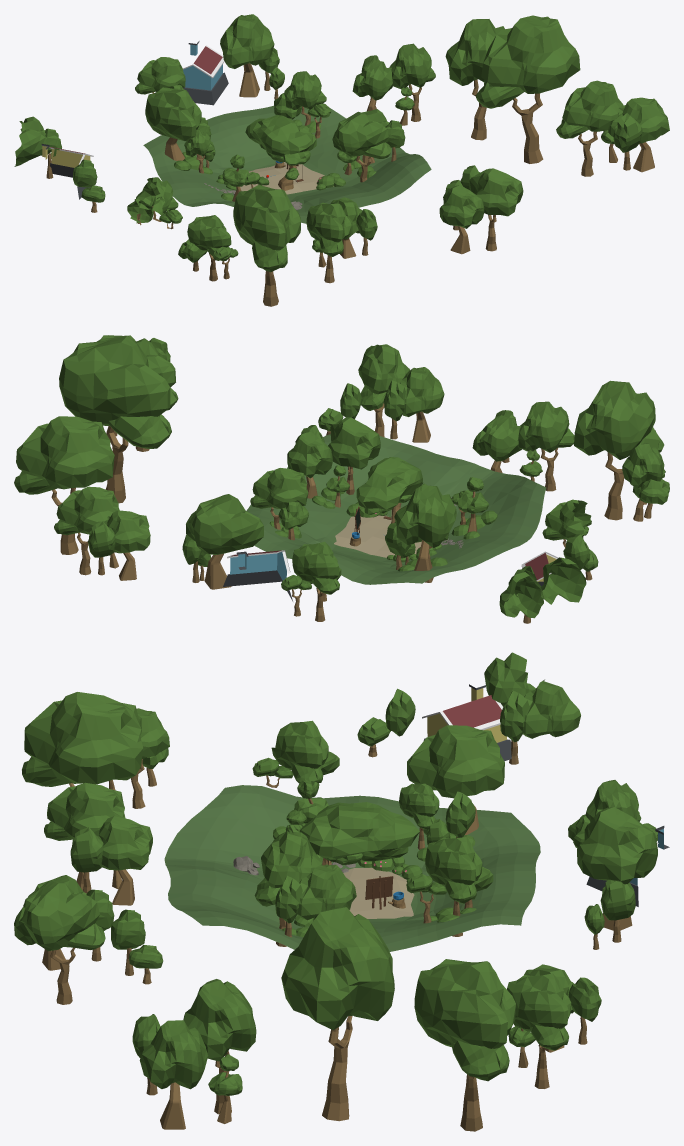
Rendered from Balloon_Minigame_Scene.fbx.
3 renders of one model, top to bottom at view 1: azimuth 30°, elevation 25°; view 2: azimuth 150°, elevation 25°; view 3: azimuth 270°, elevation 25°, orthographic. The views are drawn at different scales.
Parts seen in each view (by area): view 1: Terrain, Tree_Cluster_1, Tree_Cluster_5, Blue_House, Tree_Cluster_2, Tree_Cluster_3, Tree_Cluster_8, Tree_Cluster_0, Tree_Cluster_4, Tree_Cluster_10, Yellow_House, Main_Tree (+3 smaller); view 2: Tree_Cluster_1, Terrain, Blue_House, Tree_Cluster_5, Tree_Cluster_3, Tree_Cluster_0, Tree_Cluster_10, Tree_Cluster_4, Yellow_House, Tree_Cluster_8, Tree_Cluster_9, Main_Tree (+3 smaller); view 3: Terrain, Tree_Cluster_1, Tree_Cluster_5, Tree_Cluster_2, Yellow_House, Blue_House, Tree_Cluster_3, Tree_Cluster_8, Tree_Cluster_4, Tree_Cluster_0, Tree_Cluster_10, Main_Tree (+4 smaller).
Part boxes in pixels (box(x1,y1,x2,y2)): Terrain: box(143, 105, 431, 223); Tree_Cluster_1: box(445, 15, 580, 163); Tree_Cluster_5: box(178, 185, 300, 306); Blue_House: box(135, 14, 284, 105); Tree_Cluster_2: box(556, 80, 669, 176); Tree_Cluster_3: box(439, 165, 523, 254); Tree_Cluster_8: box(145, 87, 215, 174); Tree_Cluster_0: box(352, 43, 435, 125); Tree_Cluster_4: box(306, 197, 377, 283); Tree_Cluster_10: box(332, 109, 405, 182); Yellow_House: box(14, 116, 105, 212); Main_Tree: box(245, 114, 316, 190); Tree_Cluster_1: box(14, 335, 171, 554); Terrain: box(246, 434, 546, 584); Blue_House: box(182, 494, 341, 621); Tree_Cluster_5: box(574, 380, 669, 521); Tree_Cluster_3: box(318, 344, 444, 442); Tree_Cluster_0: box(54, 486, 150, 580); Tree_Cluster_10: box(287, 417, 380, 508); Tree_Cluster_4: box(472, 401, 574, 491); Yellow_House: box(499, 534, 598, 623); Tree_Cluster_8: box(385, 485, 456, 582); Tree_Cluster_9: box(250, 468, 308, 540); Main_Tree: box(356, 457, 427, 523); Terrain: box(164, 785, 540, 951); Tree_Cluster_1: box(281, 906, 515, 1131); Tree_Cluster_5: box(22, 692, 169, 808); Tree_Cluster_2: box(132, 979, 256, 1129); Yellow_House: box(357, 652, 580, 764); Blue_House: box(568, 780, 669, 949); Tree_Cluster_3: box(14, 875, 163, 1004); Tree_Cluster_8: box(399, 725, 504, 861); Tree_Cluster_4: box(44, 782, 152, 905); Tree_Cluster_0: box(507, 964, 601, 1088); Tree_Cluster_10: box(254, 831, 356, 946); Main_Tree: box(299, 802, 419, 865).
Size of the model in its own units: 61.13 by 16.46 by 44.76.
